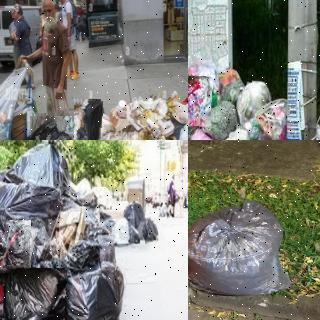Garbage: (188, 192, 308, 300), (61, 243, 126, 320), (2, 266, 66, 320), (0, 217, 34, 287), (250, 91, 294, 140), (233, 76, 270, 125), (188, 75, 212, 126), (27, 114, 74, 140), (73, 98, 102, 140), (215, 122, 254, 140), (136, 217, 157, 241), (123, 202, 144, 226), (188, 126, 220, 140)
